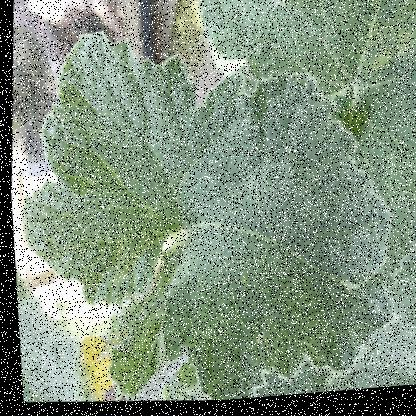Normal: (2, 10, 404, 415)
